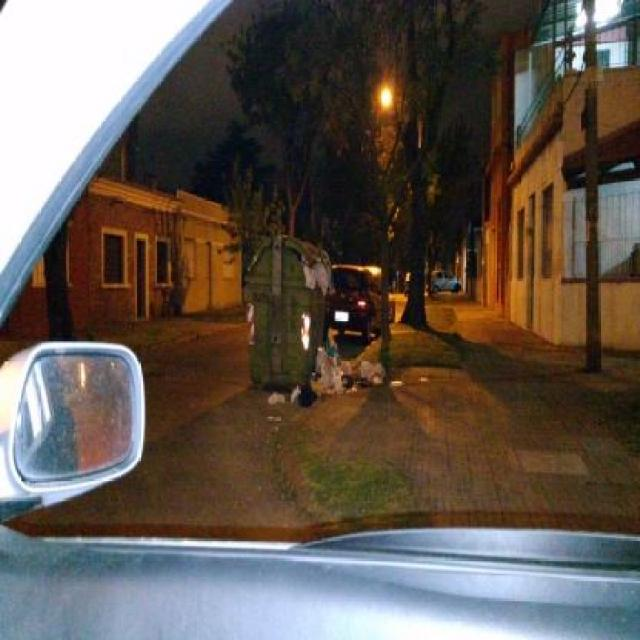garbage: (316, 329, 383, 394)
